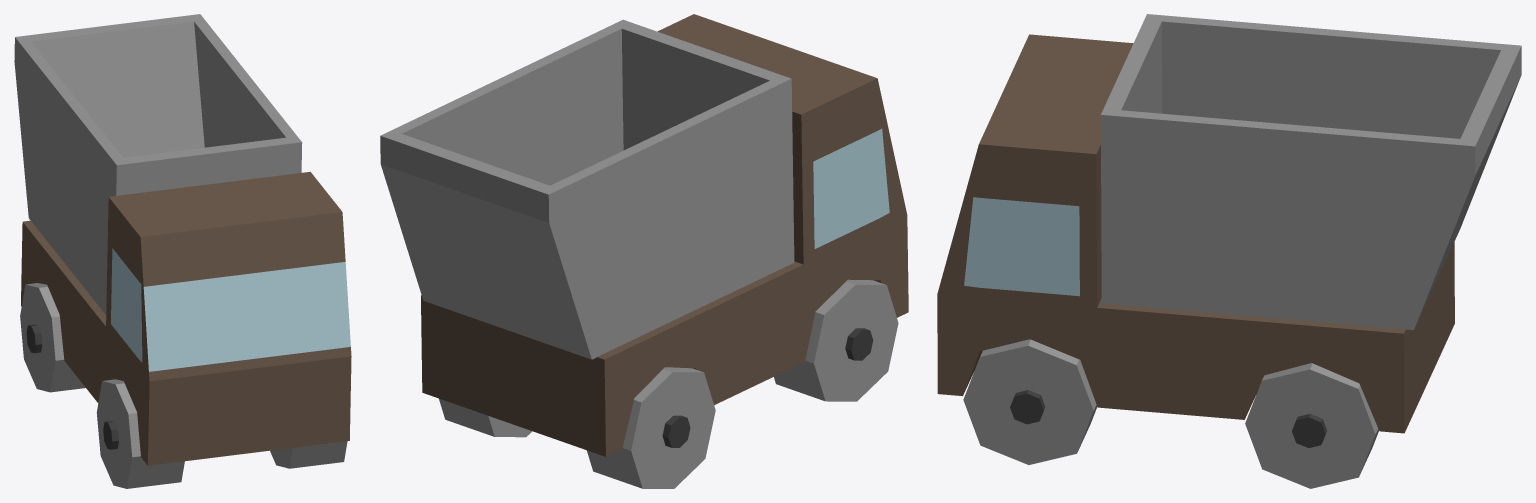
Rendered from Toy_car_2.fbx.
3 views of the same model, side by side, from view 1: azimuth 30°, elevation 25°; view 2: azimuth 150°, elevation 25°; view 3: azimuth 270°, elevation 25° (orthographic). The views are drawn at different scales.
Parts seen in each view (by area): view 1: Toy_car_2; view 2: Toy_car_2; view 3: Toy_car_2.
Boxes of the visible parts, <box> form: Toy_car_2: <box>14,14,351,488</box>; Toy_car_2: <box>380,14,908,488</box>; Toy_car_2: <box>937,14,1521,488</box>.
Size of the model in its own units: 26.2 by 42.74 by 28.69.
